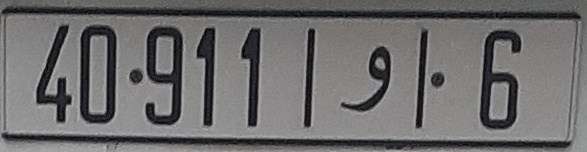0: (75, 23, 119, 128)
1: (238, 23, 263, 128), (195, 23, 218, 130)
4: (32, 23, 75, 127)
6: (477, 27, 523, 133)
9: (142, 21, 186, 130)
waw: (334, 40, 397, 118)
